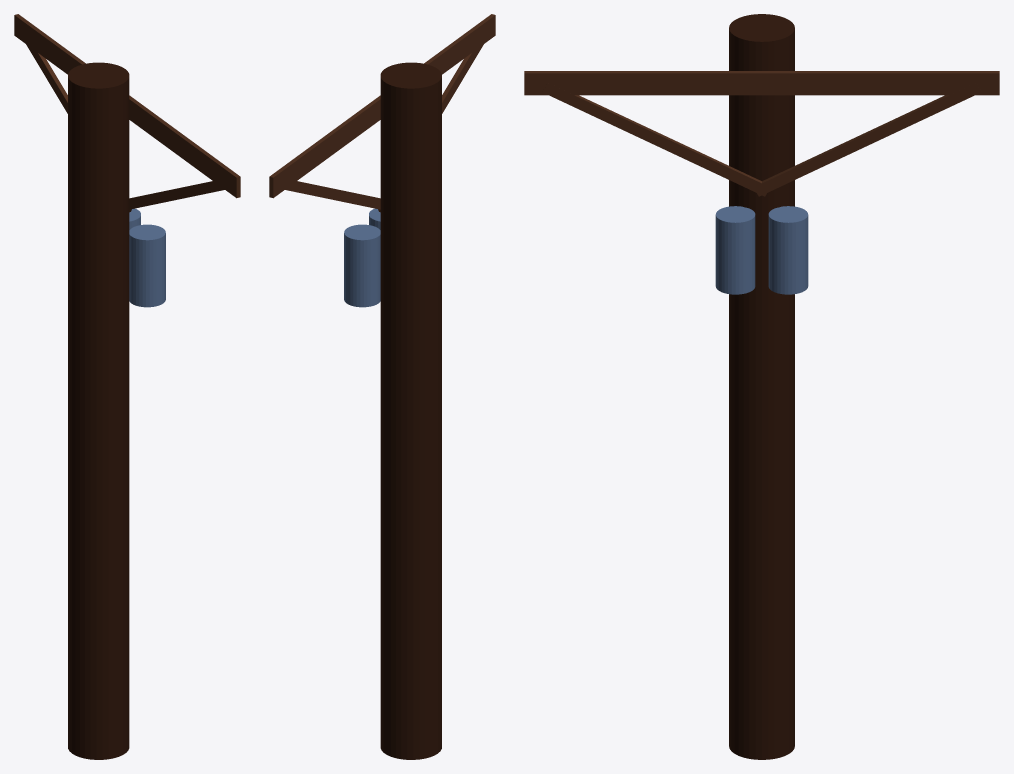
Rendered from tele-pole.obj.
3 views of the same model, side by side, from view 1: azimuth 30°, elevation 25°; view 2: azimuth 150°, elevation 25°; view 3: azimuth 270°, elevation 25° (orthographic). The views are drawn at different scales.
Visible parts, largest first — view 1: Cylinder, Cube_Cube.001, Cylinder.001, Cube.001_Cube.002, Cube.002_Cube.004; view 2: Cylinder, Cube_Cube.001, Cylinder.002, Cube.002_Cube.004, Cube.001_Cube.002; view 3: Cylinder, Cube_Cube.001, Cylinder.002, Cylinder.001, Cube.002_Cube.004, Cube.001_Cube.002.
Part boxes in pixels (bbox=[...]): Cylinder: bbox=[68, 62, 129, 759]; Cube_Cube.001: bbox=[14, 14, 240, 198]; Cylinder.001: bbox=[129, 224, 165, 307]; Cube.001_Cube.002: bbox=[129, 181, 224, 209]; Cube.002_Cube.004: bbox=[26, 44, 131, 212]; Cylinder: bbox=[380, 62, 441, 759]; Cube_Cube.001: bbox=[269, 14, 495, 198]; Cylinder.002: bbox=[344, 224, 380, 307]; Cube.002_Cube.004: bbox=[285, 181, 380, 209]; Cube.001_Cube.002: bbox=[378, 44, 483, 212]; Cylinder: bbox=[729, 14, 794, 759]; Cube_Cube.001: bbox=[524, 71, 999, 95]; Cylinder.002: bbox=[768, 206, 808, 294]; Cylinder.001: bbox=[715, 206, 755, 294]; Cube.002_Cube.004: bbox=[754, 83, 981, 196]; Cube.001_Cube.002: bbox=[542, 83, 768, 196].
Size of the model in its own units: 0.74 by 6 by 3.6.
